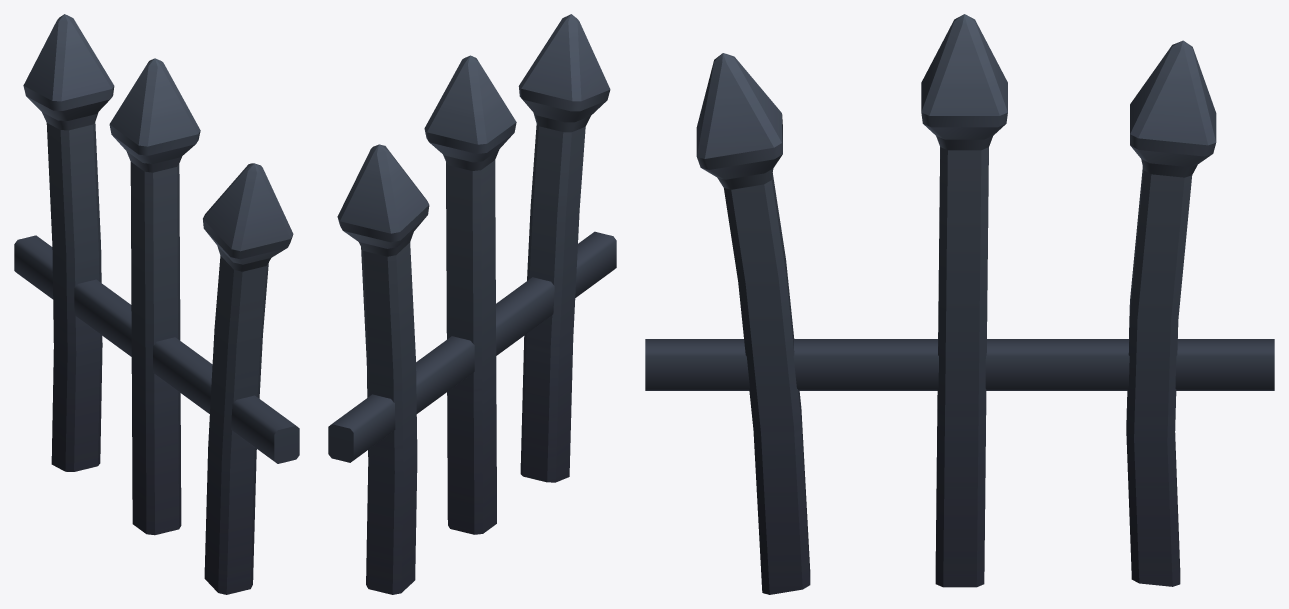
File: Fence_2_2.glb
3 views of the same model, side by side, from view 1: azimuth 30°, elevation 25°; view 2: azimuth 150°, elevation 25°; view 3: azimuth 270°, elevation 25° (orthographic). The views are drawn at different scales.
Parts seen in each view (by area): view 1: Fence_2_2; view 2: Fence_2_2; view 3: Fence_2_2.
Part boxes in pixels (x1,y1,x2,y2): Fence_2_2: [14, 14, 299, 594]; Fence_2_2: [328, 14, 616, 594]; Fence_2_2: [645, 14, 1274, 594].
Bounding box in the file's own units: 0.1342 × 0.9768 × 0.9745.
Materials: 1 (1 with a texture image).
